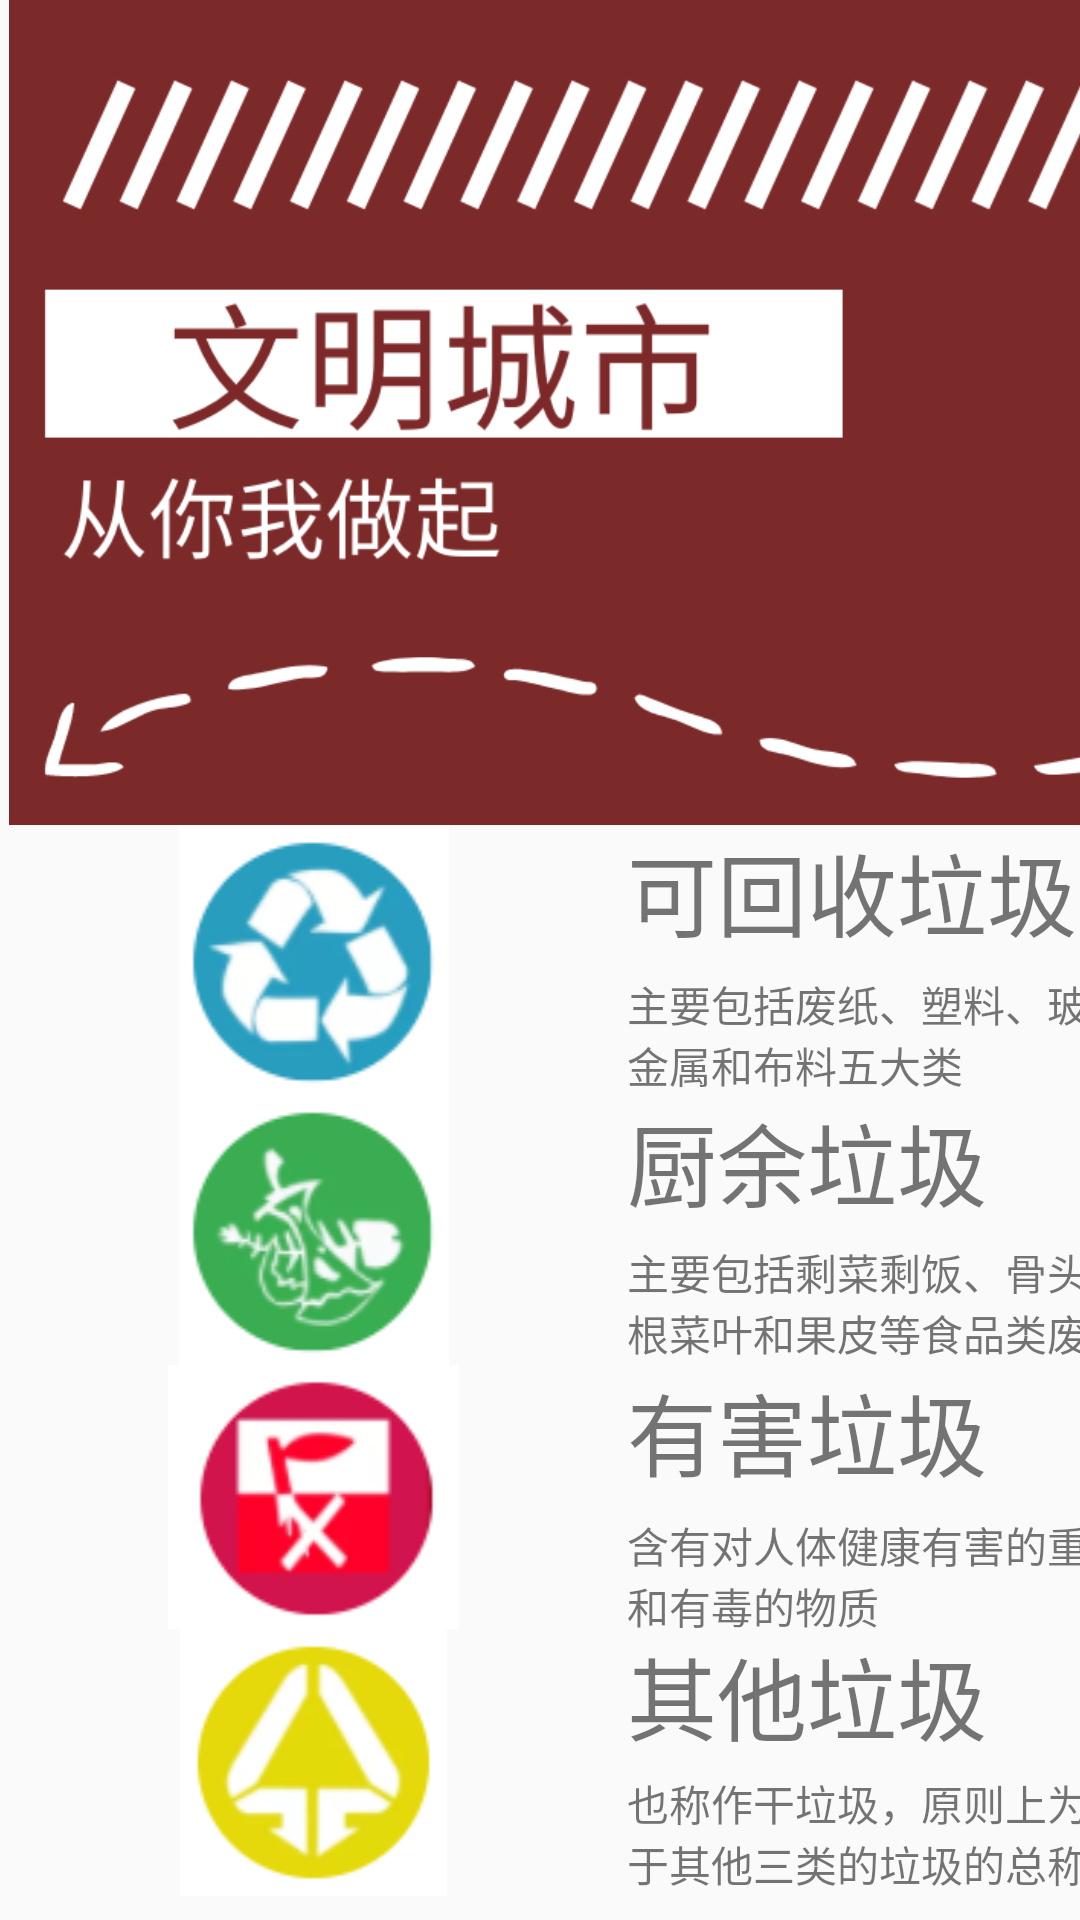

Named icons in this screenshot (1080px×1920px) and their centers, (x=x, y=y):
index harmful: (x=316, y=1498)
index kitchen waste: (x=312, y=1232)
index other: (x=313, y=1762)
index recycled: (x=312, y=962)
